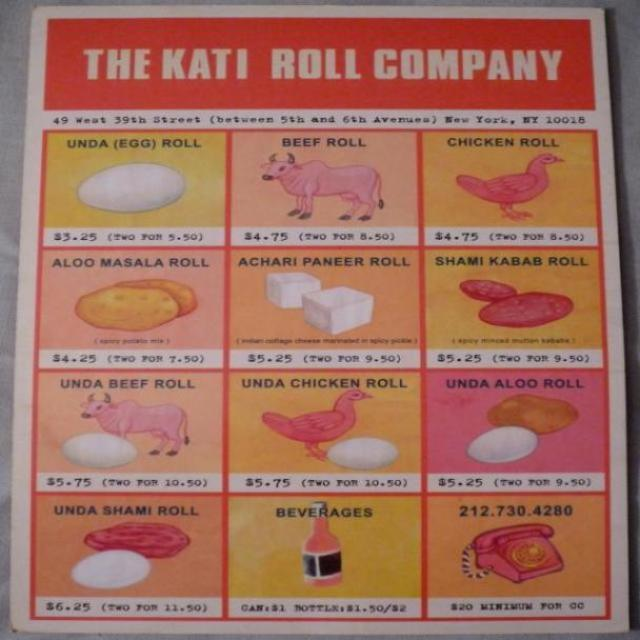Chicken: (252, 388, 380, 463), (447, 150, 572, 225)
